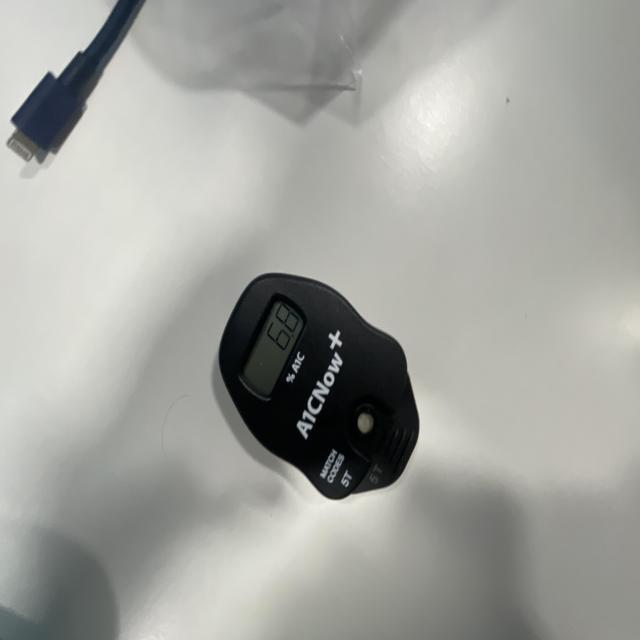hba1c: (215, 273, 421, 503)
